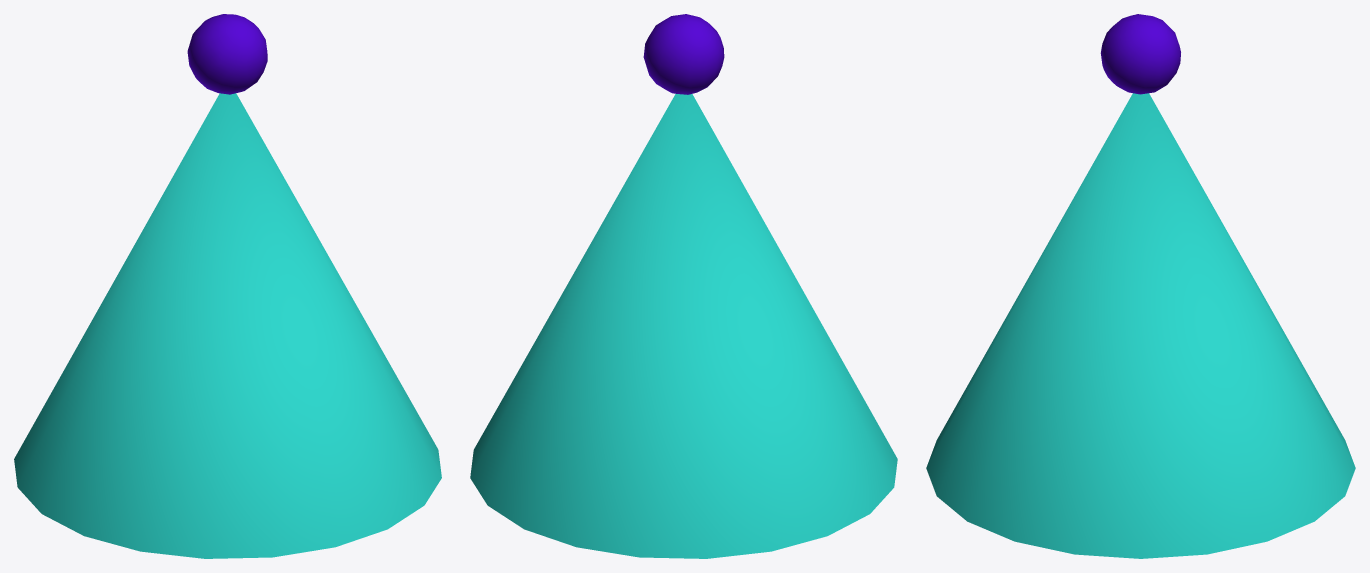
Rendered from party-hat01.dae.
The picture shows the model from 3 angles, left to right: view 1: azimuth 30°, elevation 25°; view 2: azimuth 150°, elevation 25°; view 3: azimuth 270°, elevation 25°; orthographic projection.
Visible parts, largest first — view 1: Cone, Sphere; view 2: Cone, Sphere; view 3: Cone, Sphere.
Boxes of the visible parts, bbox=[...] form: Cone: bbox=[14, 93, 441, 558]; Sphere: bbox=[187, 14, 267, 94]; Cone: bbox=[470, 94, 897, 558]; Sphere: bbox=[643, 14, 724, 94]; Cone: bbox=[926, 93, 1355, 558]; Sphere: bbox=[1100, 14, 1180, 94].
Size of the model in its own units: 6.38 by 6.38 by 7.38.
